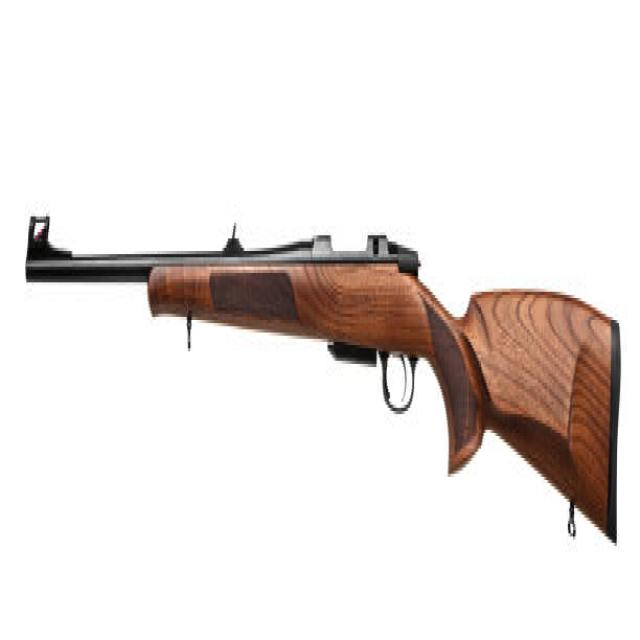rifle: (20, 198, 624, 574)
